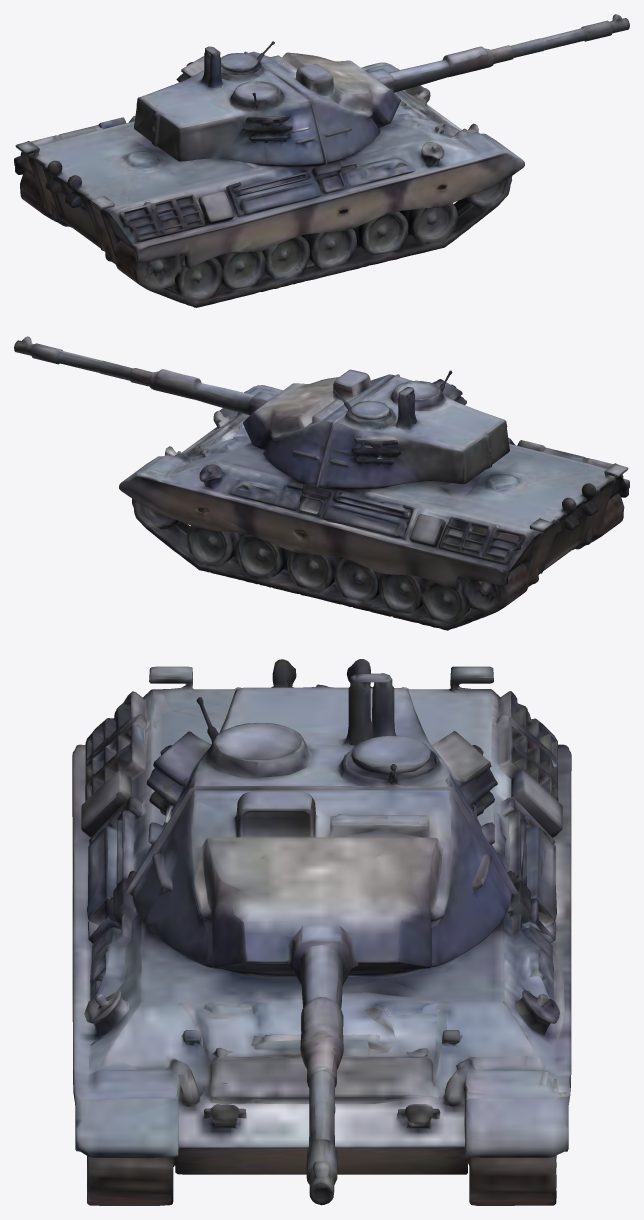
The model's file is leo1_opt.glb.
3 views of the same model, one above another, from view 1: azimuth 30°, elevation 25°; view 2: azimuth 150°, elevation 25°; view 3: azimuth 270°, elevation 25° (orthographic). The views are drawn at different scales.
Parts seen in each view (by area): view 1: node_0; view 2: node_0; view 3: node_0.
Part boxes in pixels (left/top/right/bottom): node_0: left=14, top=14, right=629, bottom=307; node_0: left=14, top=336, right=629, bottom=630; node_0: left=72, top=659, right=571, bottom=1205.
Bounding box in the file's own units: 1.16 × 0.3608 × 0.4408.
Materials: 1 (1 with a texture image).
